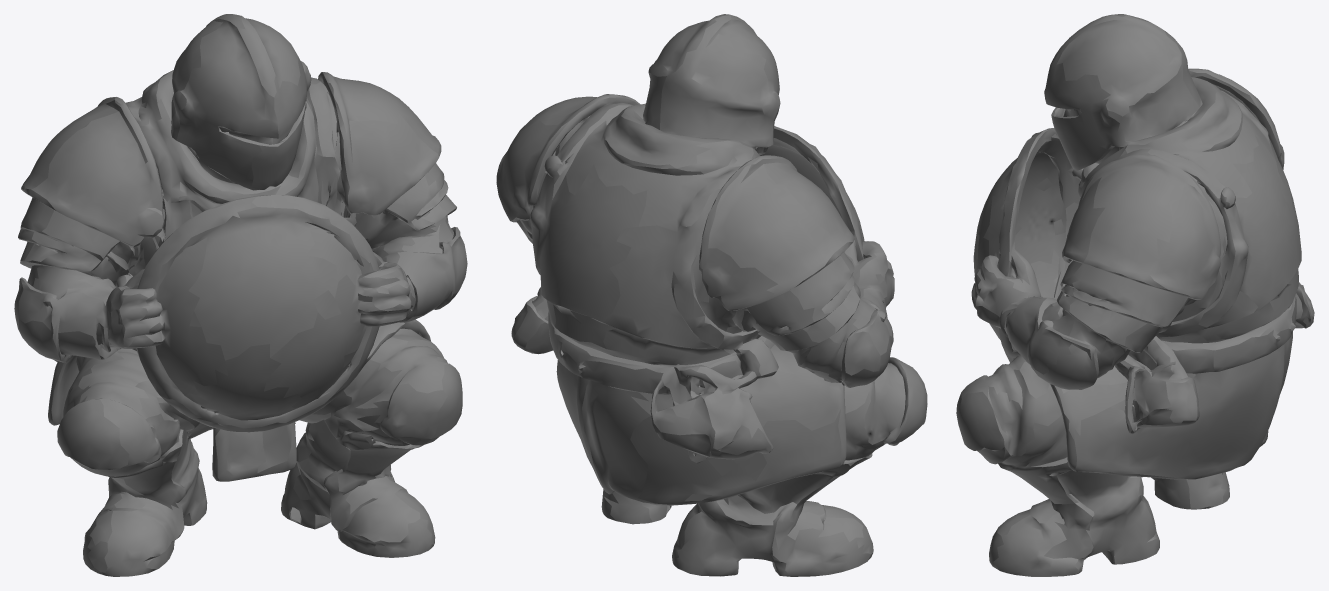
Rendered from completion_dwarf_2.glb.
The picture shows the model from 3 angles, left to right: view 1: azimuth 30°, elevation 25°; view 2: azimuth 150°, elevation 25°; view 3: azimuth 270°, elevation 25°; orthographic projection. The views are drawn at different scales.
Parts seen in each view (by area): view 1: geometry_0; view 2: geometry_0; view 3: geometry_0.
Boxes of the visible parts, box(x1,y1,x2,y2) form: geometry_0: box(14, 14, 467, 576); geometry_0: box(496, 14, 927, 576); geometry_0: box(956, 14, 1314, 576).
Bounding box in the file's own units: 0.8059 × 1 × 0.6543.
1 material, 1 textured.
